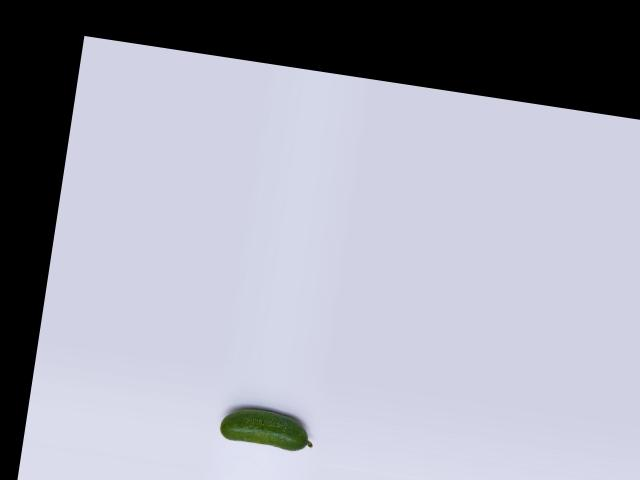cucumber: (217, 403, 316, 453)
